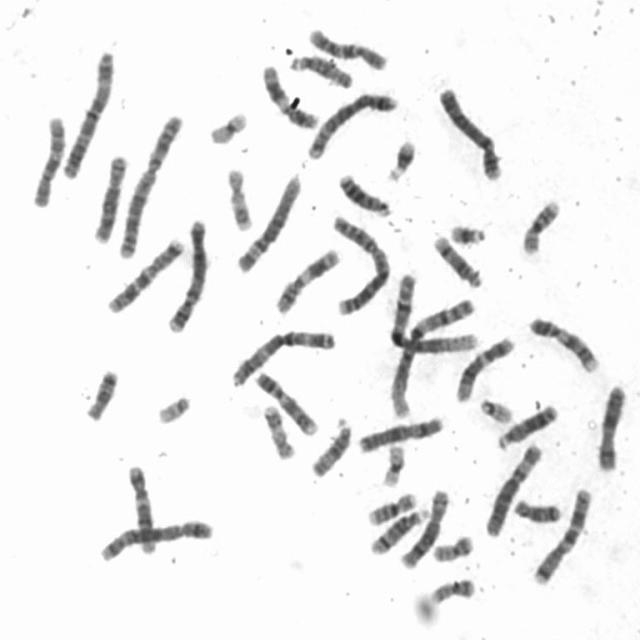A1: (386, 290, 478, 421), (386, 266, 478, 356)
A2: (113, 108, 186, 262), (326, 208, 392, 317)
A3: (60, 46, 119, 180), (227, 324, 338, 388)
B4: (435, 82, 505, 182), (162, 212, 210, 334)
B5: (302, 86, 400, 161), (96, 514, 215, 564)
C10: (304, 22, 391, 72), (27, 109, 68, 209)
C11: (271, 242, 343, 316), (258, 58, 322, 132)
C12: (452, 329, 518, 404), (123, 459, 159, 556)
C6: (233, 169, 304, 275), (481, 437, 546, 539)
C7: (528, 482, 595, 586), (103, 233, 187, 315)
C8: (397, 484, 450, 570), (89, 150, 130, 246)
C9: (251, 367, 321, 438), (524, 310, 601, 374)
D13: (494, 398, 560, 451), (335, 167, 393, 218)
D14: (366, 502, 431, 556), (429, 229, 486, 290)
D15: (307, 413, 355, 479), (286, 48, 356, 90)
E16: (518, 195, 564, 256), (363, 487, 420, 527)
E17: (259, 399, 298, 461), (222, 163, 256, 233)
E18: (82, 364, 120, 422), (510, 494, 564, 524)
F19: (205, 106, 250, 146), (378, 438, 408, 488)
F20: (429, 530, 477, 564), (427, 574, 478, 606)
G21: (382, 133, 419, 183), (446, 218, 488, 246)
G22: (152, 389, 194, 426), (476, 393, 516, 425)
X: (354, 411, 447, 455), (593, 379, 630, 474)
